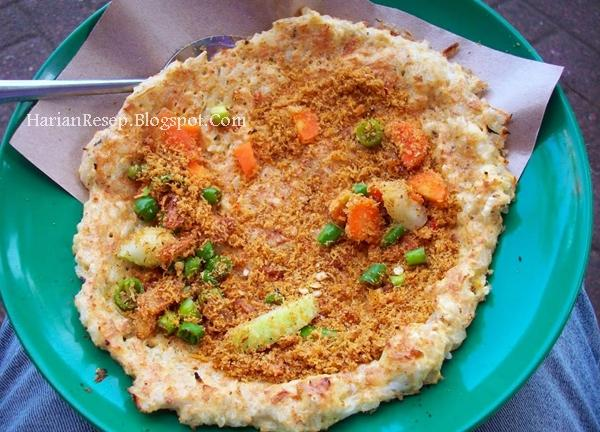kerak_telor: (74, 16, 518, 432)
